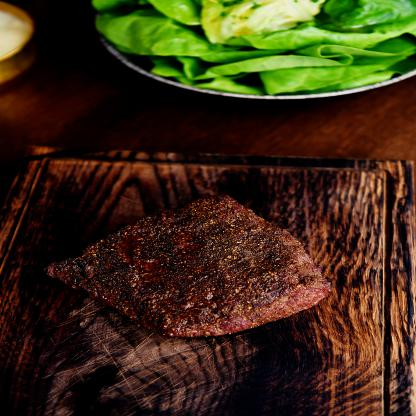Carne: (44, 193, 334, 329)
